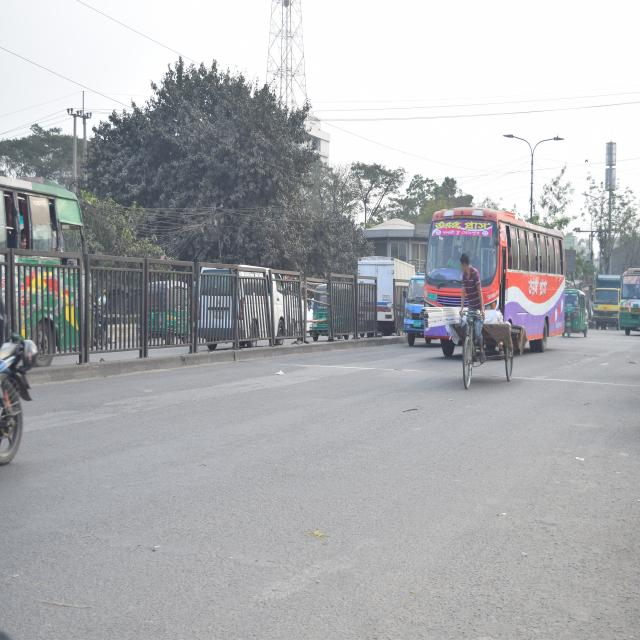bus: (427, 204, 568, 360), (588, 266, 620, 328), (619, 266, 640, 334)
motorbike: (0, 298, 45, 489)
pickup-van: (398, 268, 429, 347)
